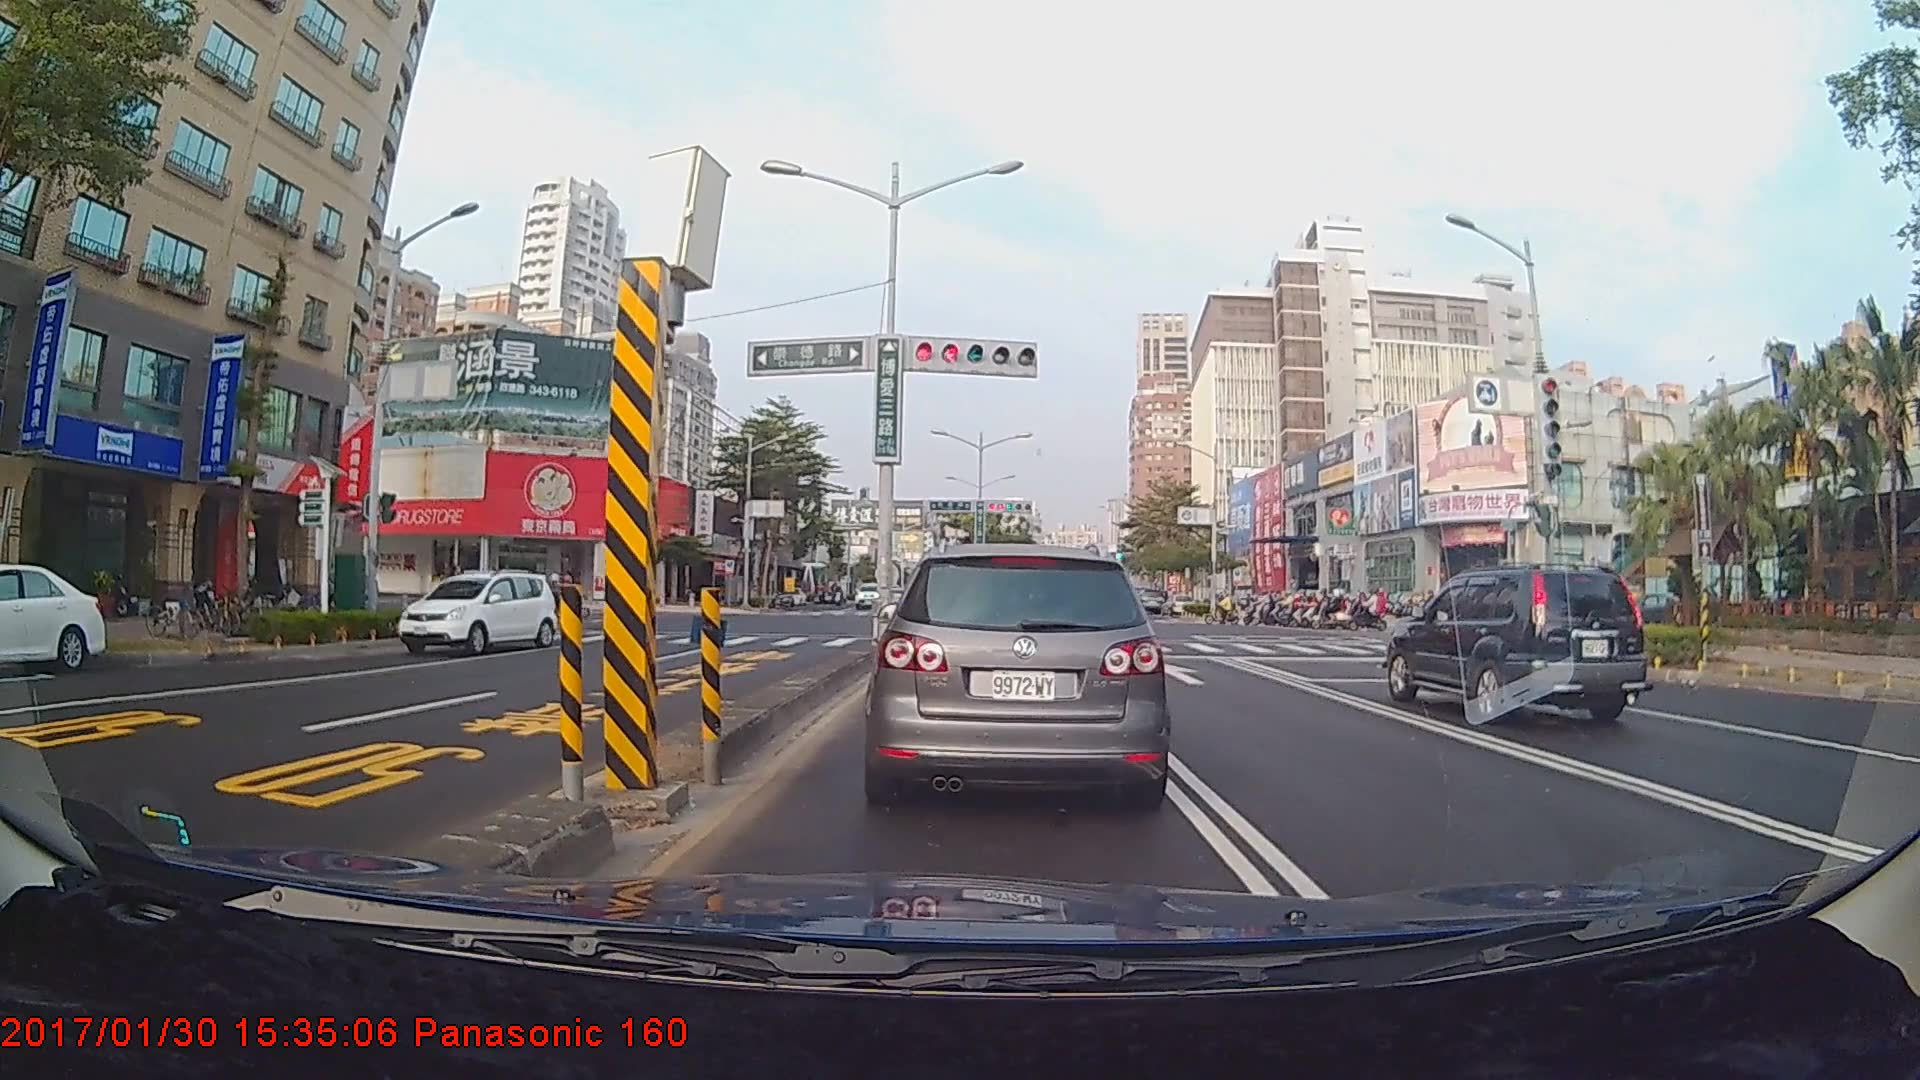vehicle: (858, 530, 1174, 810), (1386, 560, 1646, 723), (397, 568, 556, 655), (0, 564, 109, 674)
